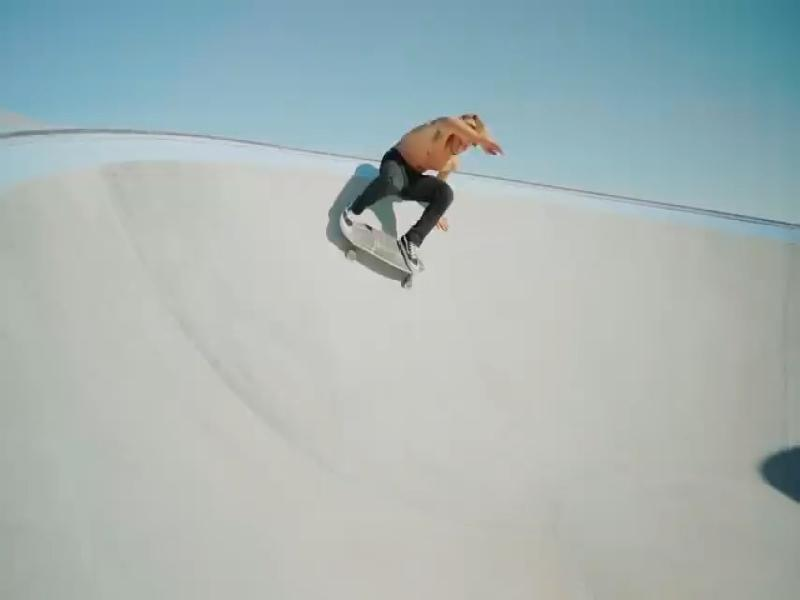person: (339, 115, 502, 273)
skate: (339, 213, 411, 274)
